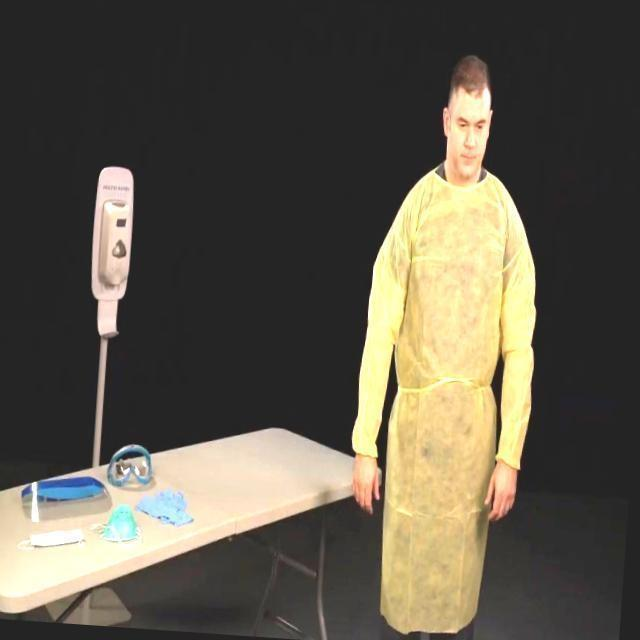no_apron: (480, 462, 524, 530), (340, 454, 386, 509)
no_hairnet: (448, 134, 493, 175)
